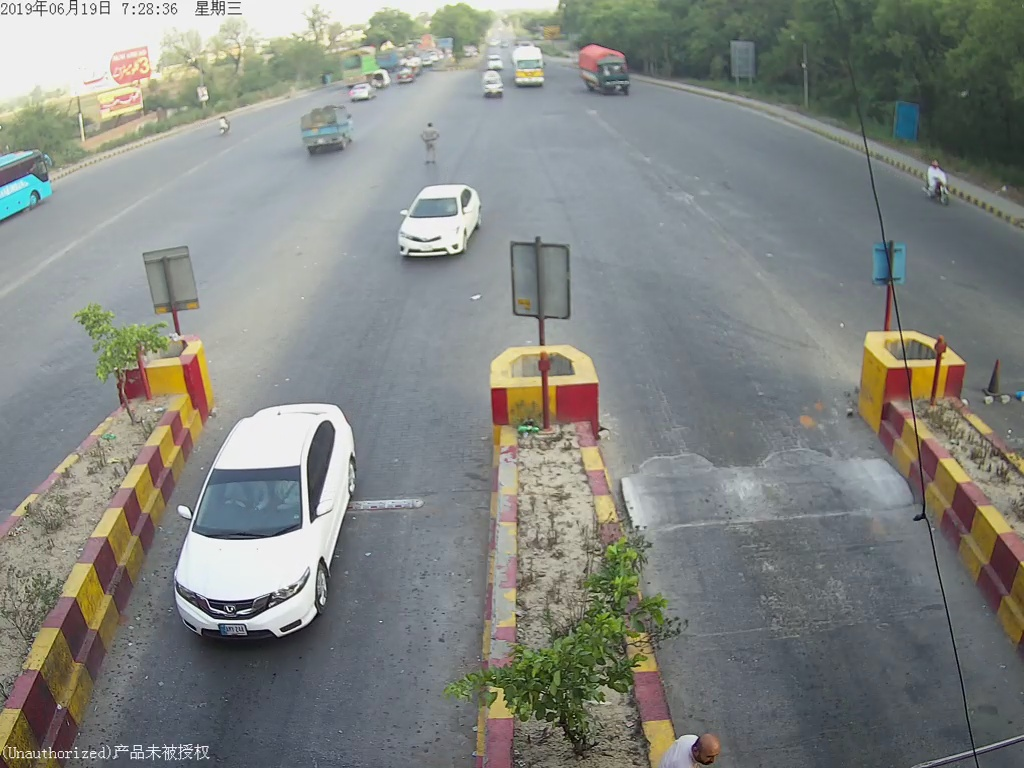Cat-1: (171, 409, 371, 648), (390, 183, 491, 269)
